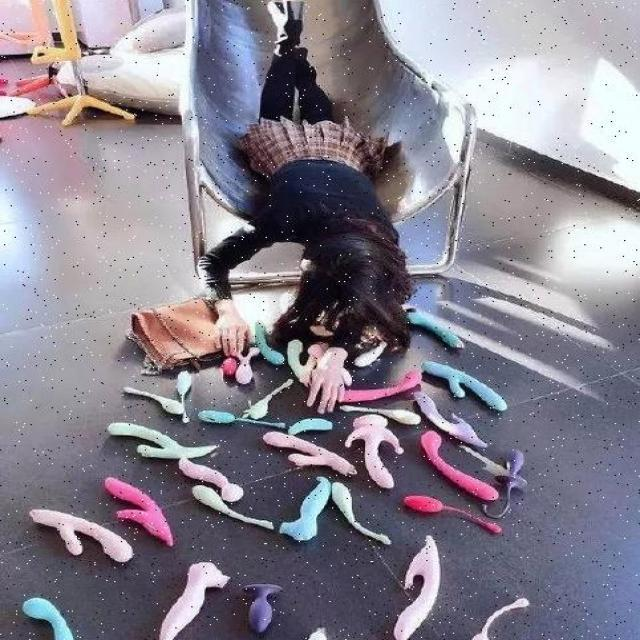fall: (232, 0, 419, 377)
